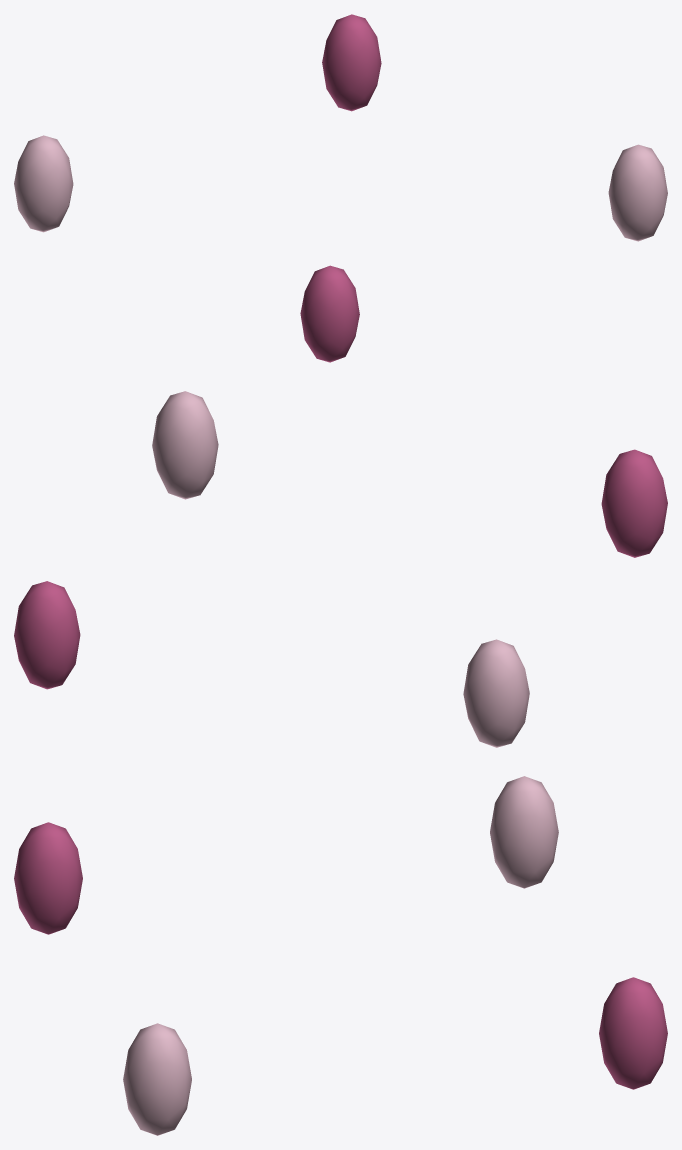
File: boundary.glb
The picture shows the model from 3 angles, top to bottom: view 1: azimuth 30°, elevation 25°; view 2: azimuth 150°, elevation 25°; view 3: azimuth 270°, elevation 25°; orthographic projection. The views are drawn at different scales.
Parts seen in each view (by area): view 1: boundary_0, boundary_2, boundary_1, boundary_3; view 2: boundary_1, boundary_3, boundary_0, boundary_2; view 3: boundary_0, boundary_2, boundary_1, boundary_3.
Part boxes in pixels (x1,y1,x2,y2): boundary_0: (608, 144, 667, 241); boundary_2: (14, 135, 73, 232); boundary_1: (300, 265, 359, 362); boundary_3: (322, 14, 381, 111); boundary_1: (601, 449, 667, 557); boundary_3: (14, 581, 80, 689); boundary_0: (152, 391, 218, 499); boundary_2: (463, 639, 529, 747); boundary_0: (123, 1023, 191, 1135); boundary_2: (490, 776, 558, 888); boundary_1: (14, 822, 82, 934); boundary_3: (599, 977, 667, 1089).
Size of what is drawn, in the model's own units: 16.1 by 3.06 by 16.1.
